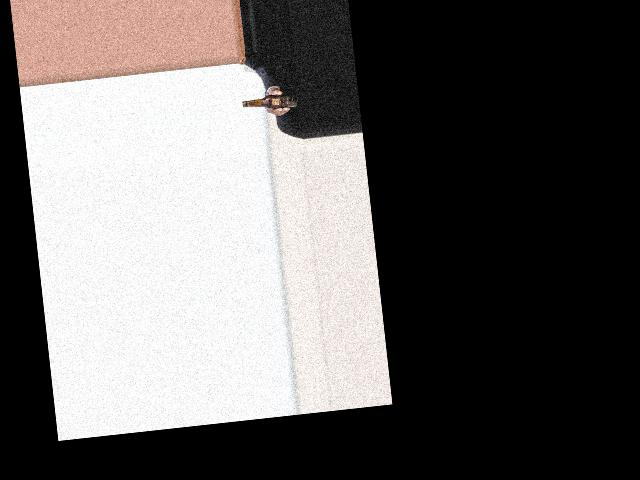beer: (242, 92, 298, 112)
